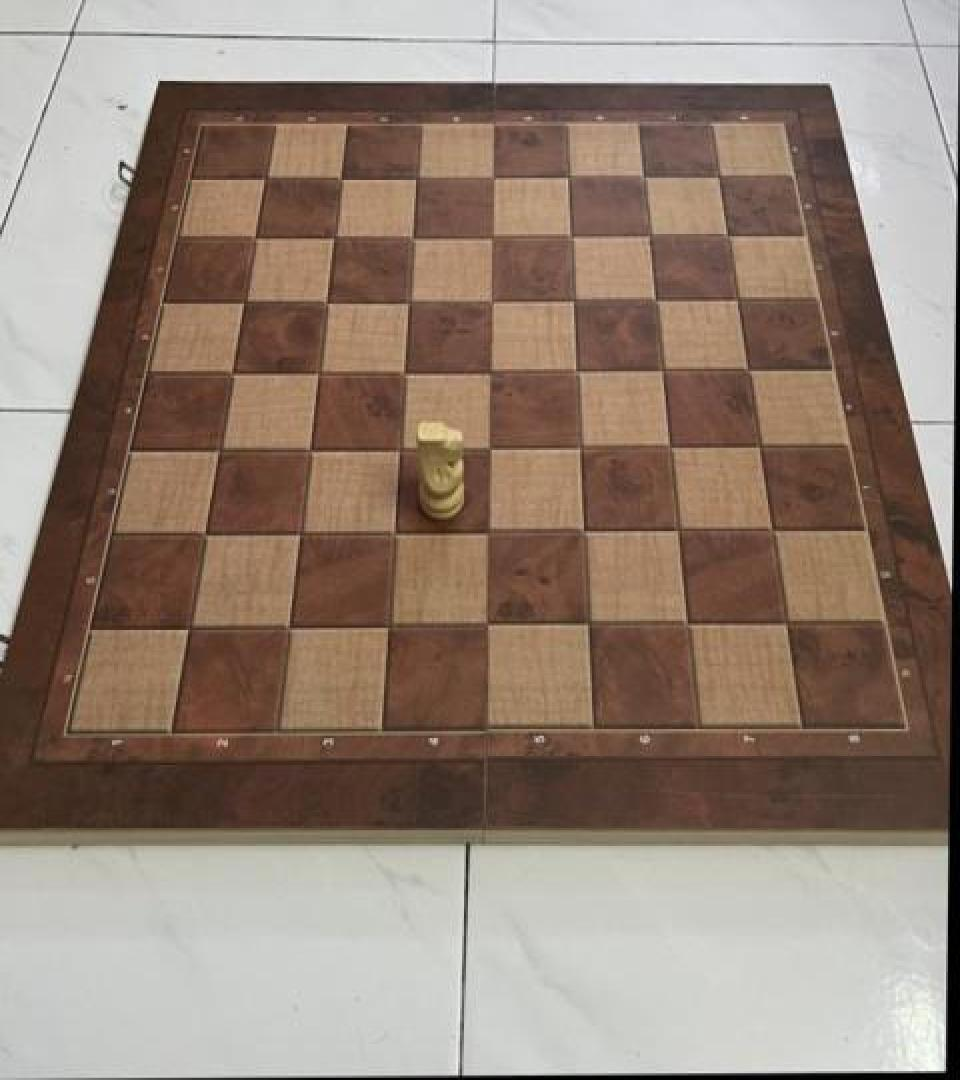xcorner: (698, 155, 734, 196), (622, 155, 658, 196), (546, 155, 582, 196), (394, 156, 430, 197), (319, 156, 355, 197), (243, 156, 279, 197), (305, 280, 341, 321), (223, 280, 259, 321), (739, 425, 775, 466), (648, 425, 684, 466), (558, 426, 594, 467), (378, 426, 414, 467), (288, 426, 324, 467), (198, 426, 234, 467), (168, 604, 204, 645), (707, 215, 743, 255), (628, 215, 664, 255), (549, 215, 585, 255), (391, 215, 427, 255), (312, 216, 348, 256), (233, 216, 269, 256), (717, 279, 753, 319), (634, 279, 670, 319), (552, 279, 588, 319), (387, 279, 423, 319), (727, 349, 763, 389), (641, 349, 677, 389), (555, 349, 591, 389), (383, 350, 419, 390), (297, 350, 333, 390), (211, 350, 247, 390), (766, 603, 802, 643), (666, 603, 702, 643), (566, 603, 602, 643), (367, 603, 403, 643), (268, 603, 304, 643), (471, 156, 505, 197), (469, 426, 503, 467), (752, 511, 788, 549), (657, 511, 693, 549), (562, 512, 598, 550), (373, 512, 409, 550), (278, 512, 314, 550), (184, 512, 220, 550), (471, 215, 505, 255), (470, 279, 504, 319), (470, 350, 504, 390), (467, 603, 501, 643), (468, 512, 502, 550)
